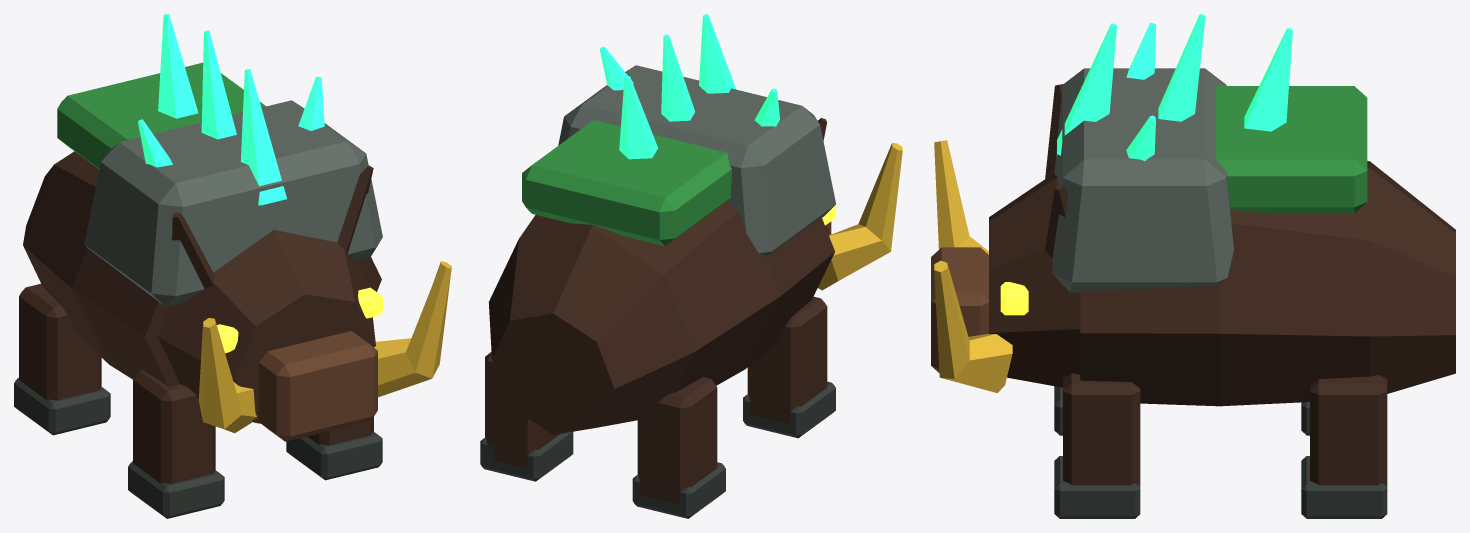
The model's file is EM_Mob_ThornbackAlpha.glb.
3 renders of one model, left to right at view 1: azimuth 30°, elevation 25°; view 2: azimuth 150°, elevation 25°; view 3: azimuth 270°, elevation 25°, orthographic. The views are drawn at different scales.
Parts seen in each view (by area): view 1: ThornbackAlpha__Body__StoneBase, ThornbackAlpha__Head__BoarDark, ThornbackAlpha__Body__BoarDark, ThornbackAlpha__Legs__BoarDark, ThornbackAlpha__Head__BoarHide, ThornbackAlpha__Body__JadeGlow, ThornbackAlpha__Legs__StoneDark, ThornbackAlpha__Head__GoldMetal, ThornbackAlpha__Body__MossLeaf, ThornbackAlpha__Head__AmberGlow; view 2: ThornbackAlpha__Body__BoarDark, ThornbackAlpha__Body__StoneBase, ThornbackAlpha__Legs__BoarDark, ThornbackAlpha__Body__MossLeaf, ThornbackAlpha__Body__JadeGlow, ThornbackAlpha__Legs__StoneDark, ThornbackAlpha__Head__GoldMetal; view 3: ThornbackAlpha__Body__BoarDark, ThornbackAlpha__Body__StoneBase, ThornbackAlpha__Body__MossLeaf, ThornbackAlpha__Legs__BoarDark, ThornbackAlpha__Head__BoarDark, ThornbackAlpha__Body__JadeGlow, ThornbackAlpha__Head__GoldMetal, ThornbackAlpha__Legs__StoneDark, ThornbackAlpha__Head__BoarHide, ThornbackAlpha__Head__AmberGlow.
Part boxes in pixels (x1,y1,x2,y2): ThornbackAlpha__Body__StoneBase: [84, 100, 382, 306]; ThornbackAlpha__Head__BoarDark: [157, 165, 375, 423]; ThornbackAlpha__Body__BoarDark: [23, 151, 381, 386]; ThornbackAlpha__Legs__BoarDark: [19, 283, 373, 483]; ThornbackAlpha__Head__BoarHide: [258, 331, 377, 441]; ThornbackAlpha__Body__JadeGlow: [138, 14, 324, 205]; ThornbackAlpha__Legs__StoneDark: [14, 377, 382, 518]; ThornbackAlpha__Head__GoldMetal: [198, 261, 451, 433]; ThornbackAlpha__Body__MossLeaf: [57, 62, 265, 168]; ThornbackAlpha__Head__AmberGlow: [217, 287, 382, 353]; ThornbackAlpha__Body__BoarDark: [488, 202, 834, 434]; ThornbackAlpha__Body__StoneBase: [558, 65, 835, 256]; ThornbackAlpha__Legs__BoarDark: [485, 296, 827, 505]; ThornbackAlpha__Body__MossLeaf: [522, 120, 731, 246]; ThornbackAlpha__Body__JadeGlow: [599, 14, 779, 159]; ThornbackAlpha__Legs__StoneDark: [480, 381, 835, 518]; ThornbackAlpha__Head__GoldMetal: [818, 143, 902, 290]; ThornbackAlpha__Body__BoarDark: [1080, 161, 1455, 406]; ThornbackAlpha__Body__StoneBase: [1052, 68, 1233, 292]; ThornbackAlpha__Body__MossLeaf: [1216, 86, 1367, 213]; ThornbackAlpha__Legs__BoarDark: [1063, 373, 1387, 485]; ThornbackAlpha__Head__BoarDark: [989, 84, 1080, 387]; ThornbackAlpha__Body__JadeGlow: [1057, 14, 1292, 160]; ThornbackAlpha__Head__GoldMetal: [934, 140, 1012, 393]; ThornbackAlpha__Legs__StoneDark: [1054, 386, 1387, 518]; ThornbackAlpha__Head__BoarHide: [931, 247, 988, 372]; ThornbackAlpha__Head__AmberGlow: [1000, 282, 1028, 315].
Bounding box in the file's own units: 3.08 × 4.8 × 5.09.
